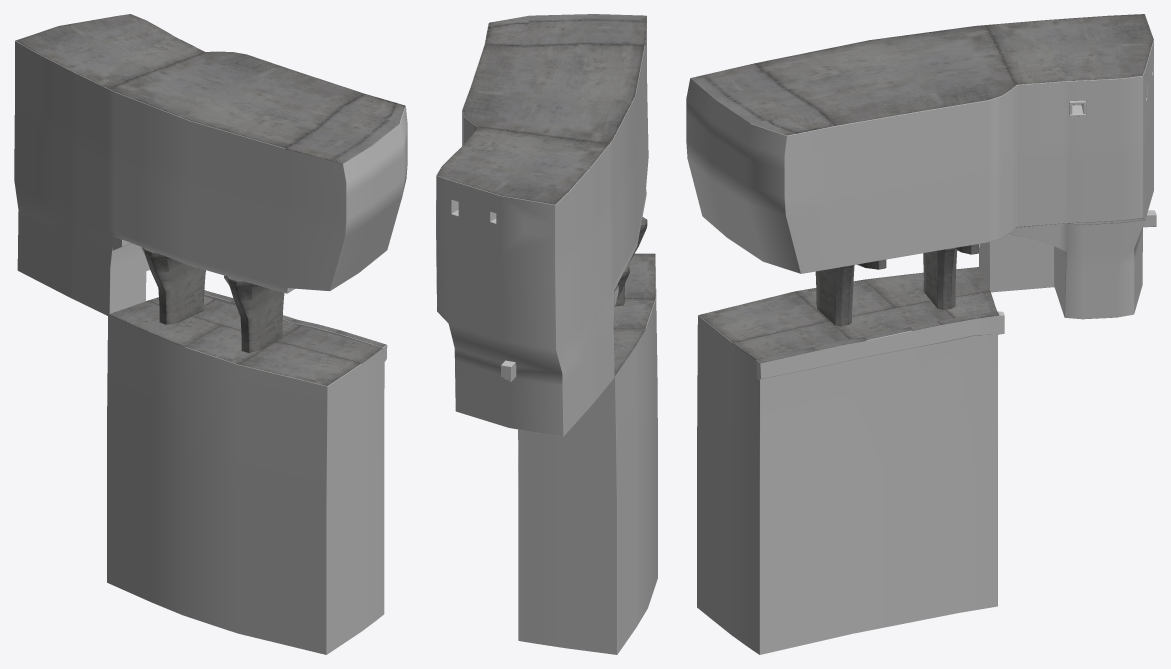
File: SM_CorridorSculpture_02_05.fbx
3 renders of one model, left to right at view 1: azimuth 30°, elevation 25°; view 2: azimuth 150°, elevation 25°; view 3: azimuth 270°, elevation 25°, orthographic. The views are drawn at different scales.
Parts seen in each view (by area): view 1: SM_CorridorSculpture_02_05; view 2: SM_CorridorSculpture_02_05; view 3: SM_CorridorSculpture_02_05.
Part boxes in pixels (x1,y1,x2,y2): SM_CorridorSculpture_02_05: (14, 14, 407, 654); SM_CorridorSculpture_02_05: (436, 14, 657, 654); SM_CorridorSculpture_02_05: (686, 14, 1156, 654).
Size of the model in its own units: 2198 by 4478 by 3549.
